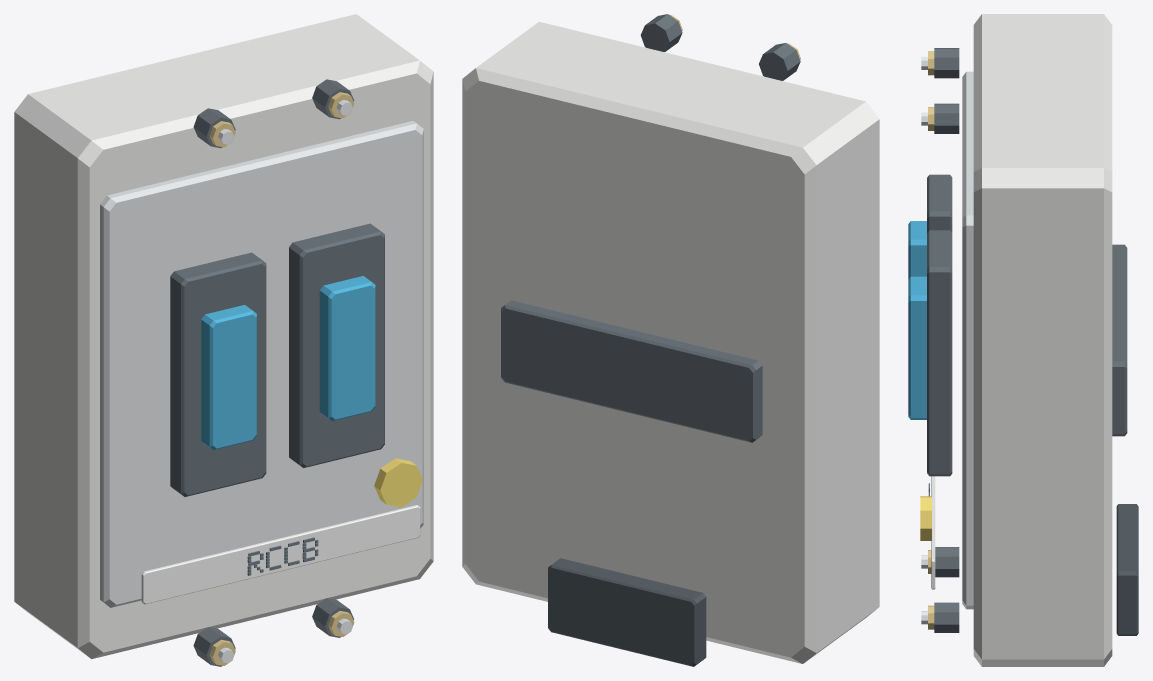
Rendered from rccb2P.glb.
The picture shows the model from 3 angles, left to right: view 1: azimuth 30°, elevation 25°; view 2: azimuth 150°, elevation 25°; view 3: azimuth 270°, elevation 25°; orthographic projection. The views are drawn at different scales.
Visible parts, largest first — view 1: rccb2P-board; view 2: rccb2P-board; view 3: rccb2P-board.
Part boxes in pixels (x1,y1,x2,y2): rccb2P-board: (14,14,433,666); rccb2P-board: (462,14,879,666); rccb2P-board: (908,14,1138,666).
Size of the model in its own units: 2.33 by 3.44 by 1.36.
